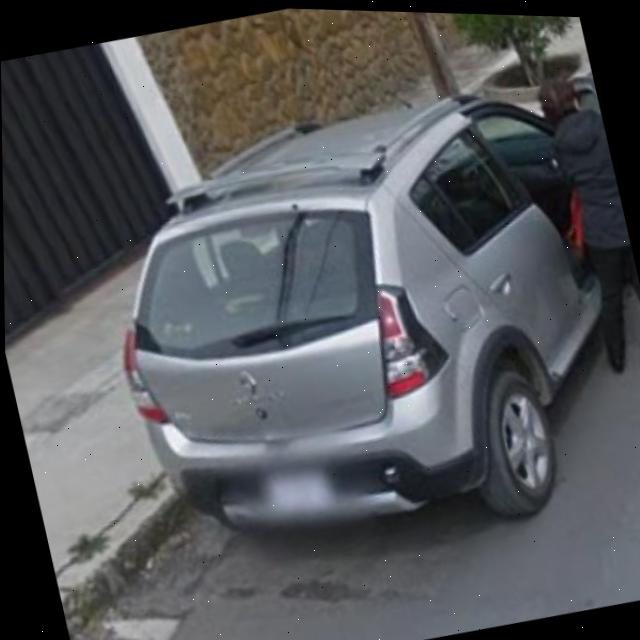vehicle: (85, 87, 640, 591)
